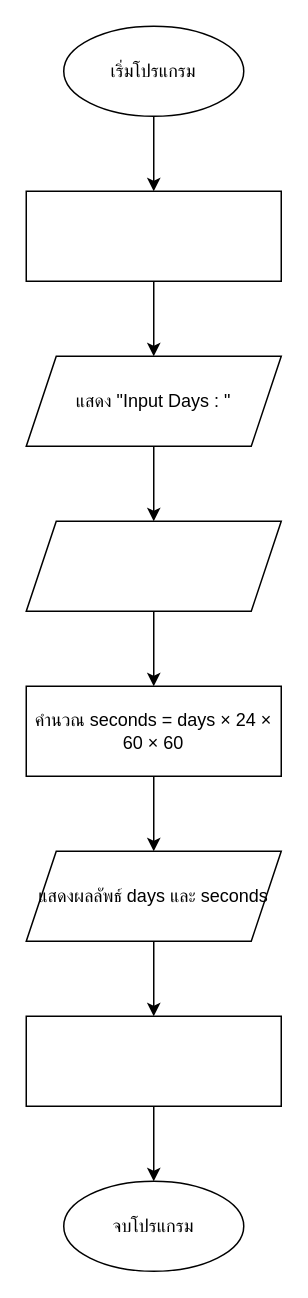
The diagram is 308 pixels wide and 1298 high, and some of its shapes have lost their labels. The centre of each missing label's shape, as x and y in pixels:
return 0: (x=153, y=1060)
ประกาศตัวแปร days, seconds: (x=153, y=235)
รับค่า days ด้วย scanf: (x=153, y=565)
